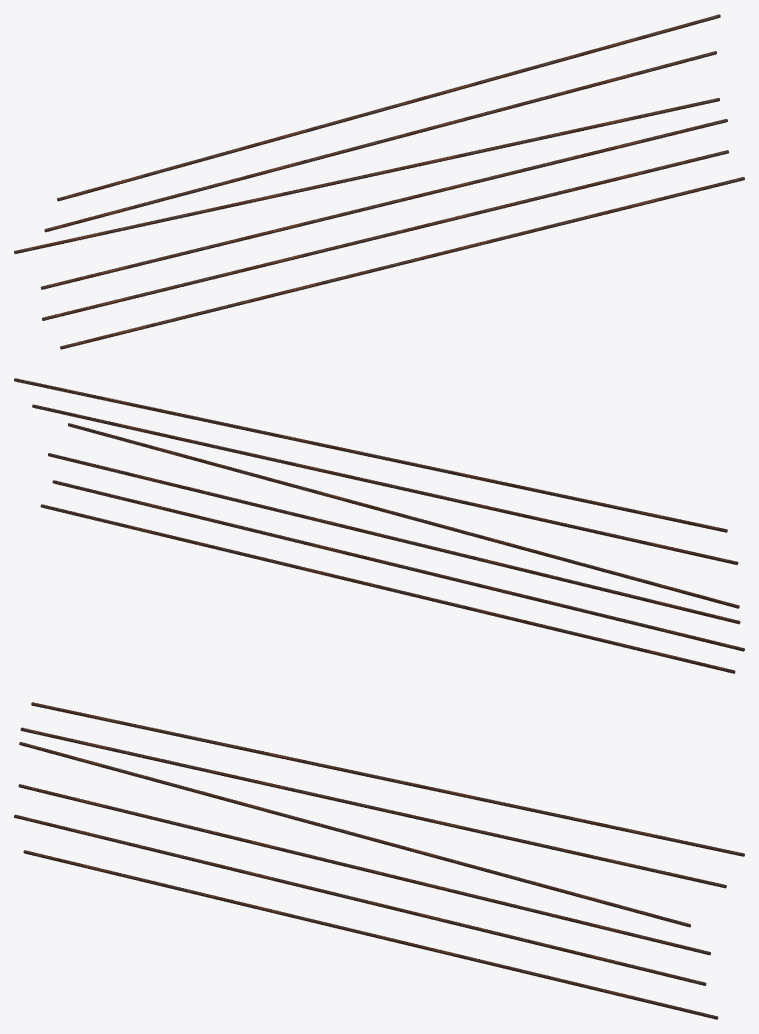
The model's file is EST-ACO-008_anim.glb.
3 views of the same model, one above another, from view 1: azimuth 30°, elevation 25°; view 2: azimuth 150°, elevation 25°; view 3: azimuth 330°, elevation 25° (orthographic).
Parts seen in each view (by area): view 1: EST-ACO-008_anim3, EST-ACO-008_anim1, EST-ACO-008_anim2, EST-ACO-008_anim0, EST-ACO-008_anim4, EST-ACO-008_anim5; view 2: EST-ACO-008_anim5, EST-ACO-008_anim4, EST-ACO-008_anim0, EST-ACO-008_anim2, EST-ACO-008_anim1, EST-ACO-008_anim3; view 3: EST-ACO-008_anim5, EST-ACO-008_anim4, EST-ACO-008_anim0, EST-ACO-008_anim2, EST-ACO-008_anim1, EST-ACO-008_anim3.
Part boxes in pixels (<box>): EST-ACO-008_anim3: <box>14,98,719,253</box>; EST-ACO-008_anim1: <box>42,150,728,320</box>; EST-ACO-008_anim2: <box>40,119,727,289</box>; EST-ACO-008_anim0: <box>60,177,744,349</box>; EST-ACO-008_anim4: <box>44,51,716,232</box>; EST-ACO-008_anim5: <box>57,14,720,201</box>; EST-ACO-008_anim5: <box>14,378,727,532</box>; EST-ACO-008_anim4: <box>32,404,738,564</box>; EST-ACO-008_anim0: <box>40,504,735,673</box>; EST-ACO-008_anim2: <box>48,453,740,624</box>; EST-ACO-008_anim1: <box>52,480,744,651</box>; EST-ACO-008_anim3: <box>68,423,739,608</box>; EST-ACO-008_anim5: <box>31,702,744,856</box>; EST-ACO-008_anim4: <box>20,727,726,888</box>; EST-ACO-008_anim0: <box>23,850,718,1019</box>; EST-ACO-008_anim2: <box>18,784,710,955</box>; EST-ACO-008_anim1: <box>14,814,706,985</box>; EST-ACO-008_anim3: <box>19,742,690,927</box>.
Bounding box in the file's own units: 1.04 × 0.2047 × 0.0757.
Materials: 1 (1 with a texture image).
